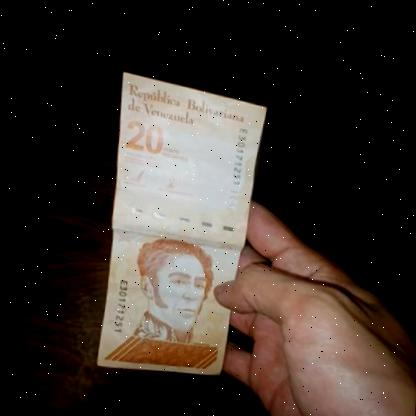twenty-front-vef: (86, 65, 274, 385)
